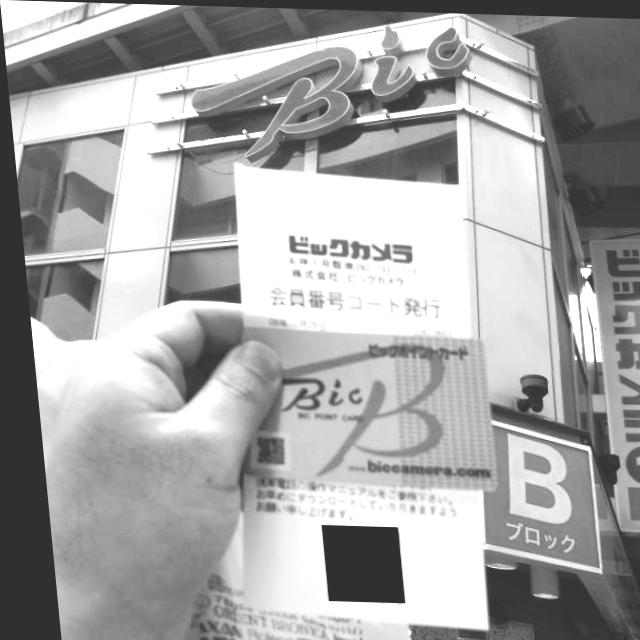qr_code: (311, 523, 393, 601)
